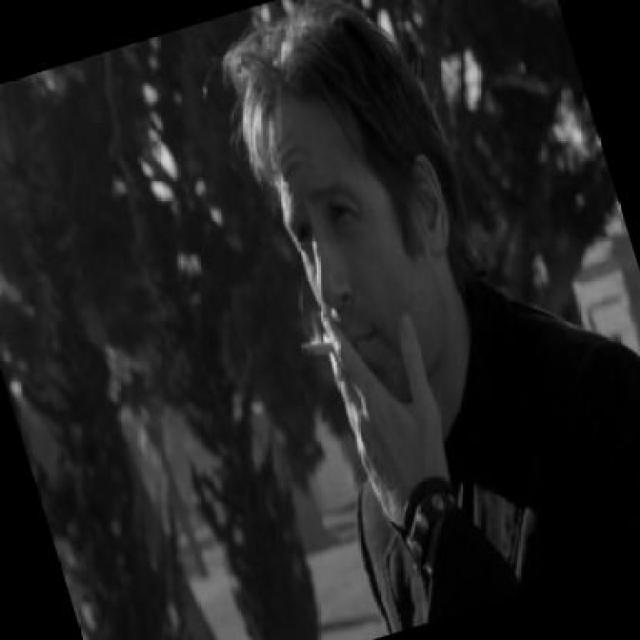cigarette: (294, 330, 340, 364)
